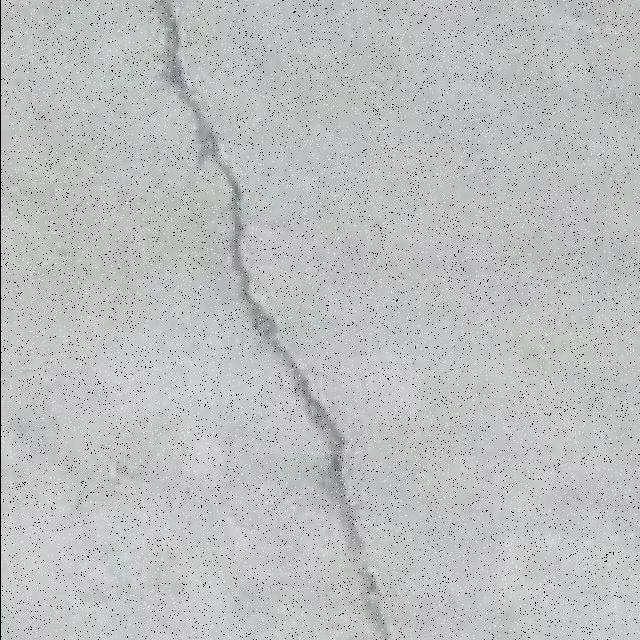crack: (151, 1, 396, 637), (155, 8, 275, 341), (155, 5, 225, 175)
